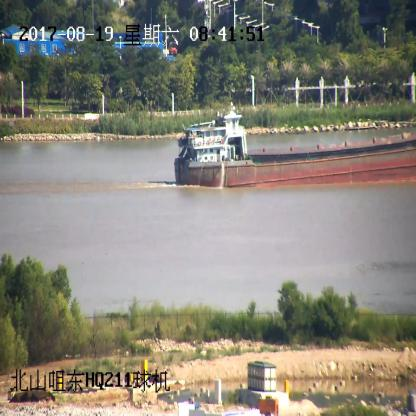Bulk Carrier: (172, 104, 416, 190)
